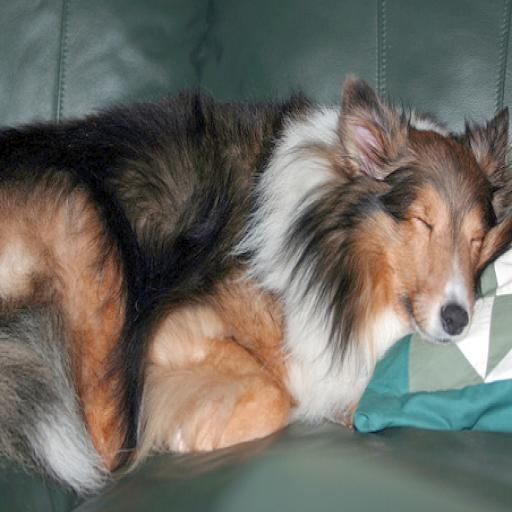dog_face: (333, 82, 512, 348)
